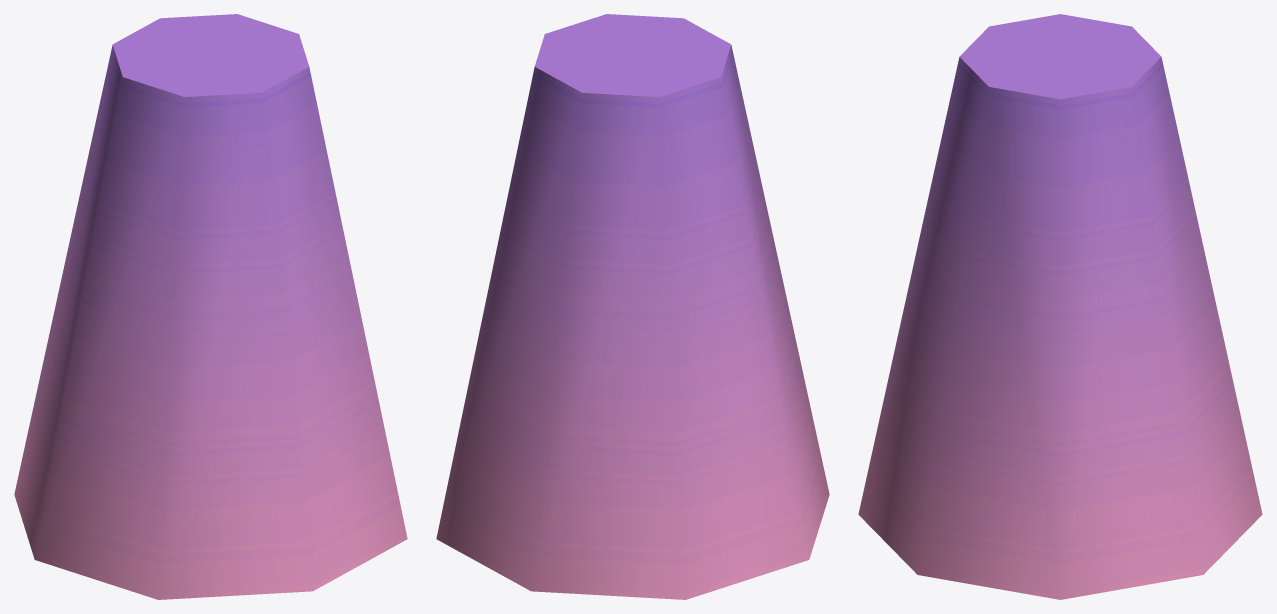
File: enemy-ufo-beam.glb
3 views of the same model, side by side, from view 1: azimuth 30°, elevation 25°; view 2: azimuth 150°, elevation 25°; view 3: azimuth 270°, elevation 25° (orthographic).
Visible parts, largest first — view 1: enemy-ufo-beam; view 2: enemy-ufo-beam; view 3: enemy-ufo-beam.
Boxes of the visible parts, <box> form: enemy-ufo-beam: <box>14,14,407,599</box>; enemy-ufo-beam: <box>436,14,829,599</box>; enemy-ufo-beam: <box>858,14,1262,599</box>.
Bounding box in the file's own units: 0.8 × 1 × 0.8.
Materials: 1 (1 with a texture image).
